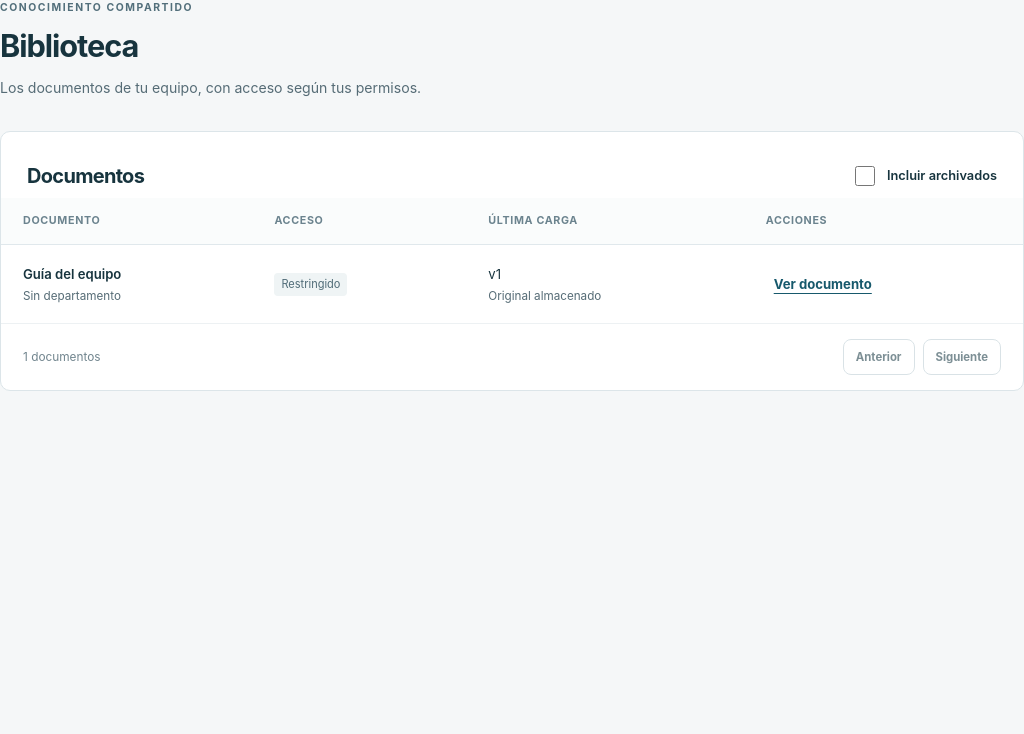
Test case: shows read-only version history and reports revoked original access
Click the button with aria-label "Ver Guía del equipo".
click(823, 284)  # box [766,262,880,306]
(page scrolled)
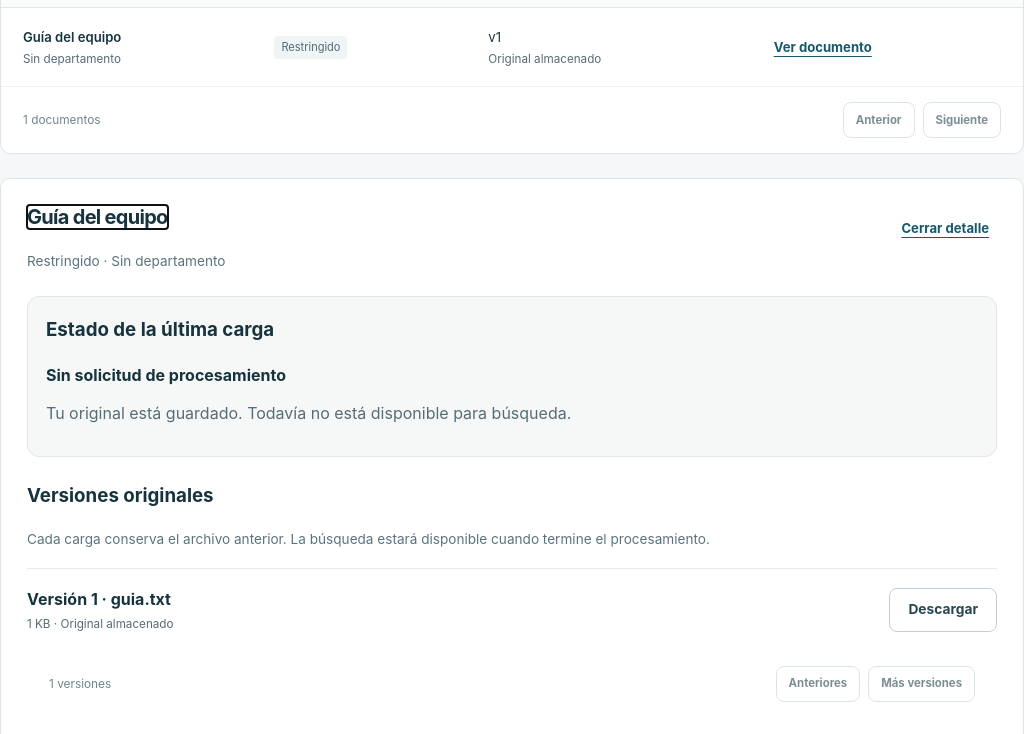
expect the heading "Versiones originales" is shown: met, box [27,484,214,507]
Click the button with aria-label "Descargar versión 1".
click(943, 610)  # box [889,588,997,632]
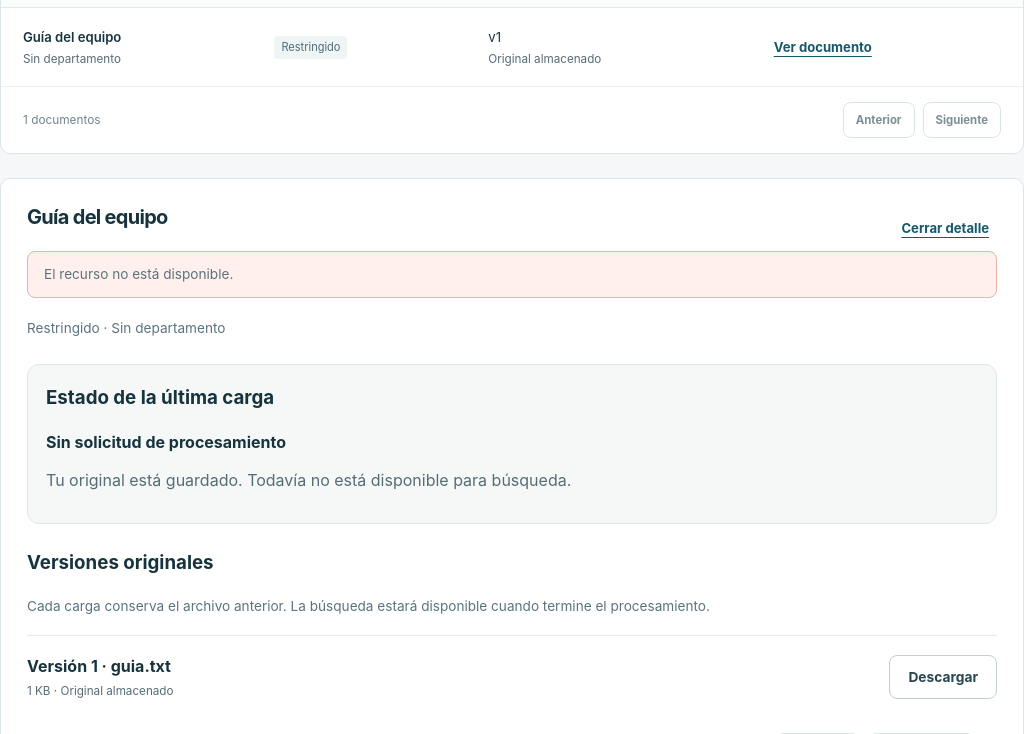
expect the message "El recurso no está disponible." is shown: met, box [27,251,997,298]
